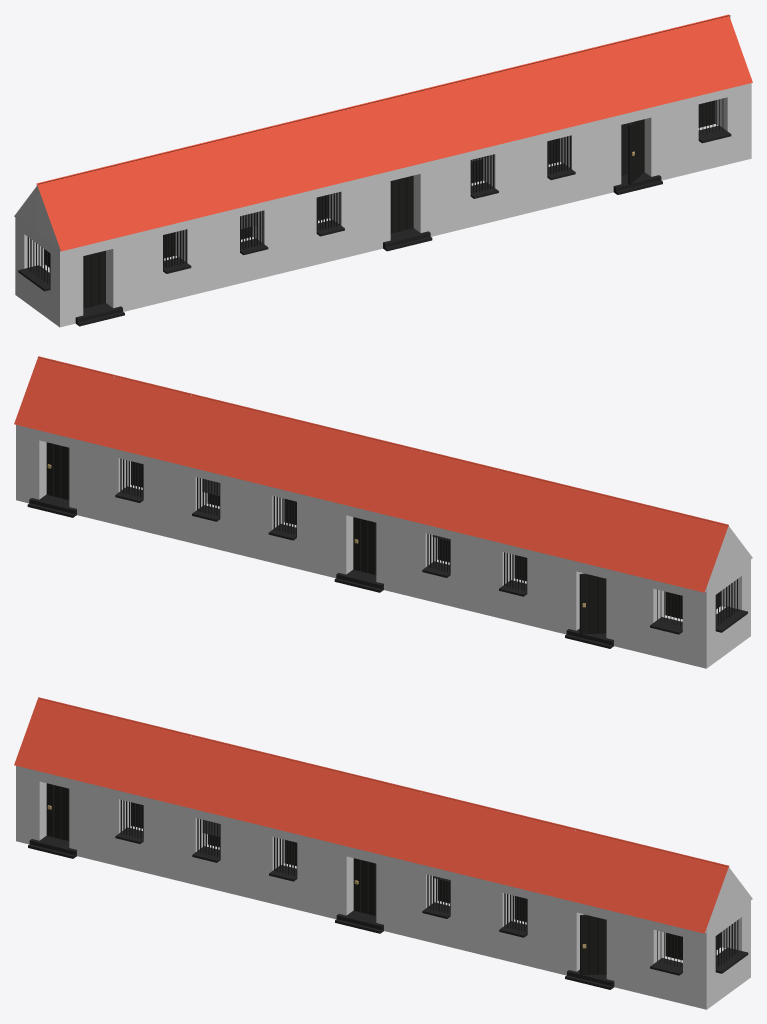
Rendered from Casa_Procedural_19.fbx.
3 views of the same model, one above another, from view 1: azimuth 30°, elevation 25°; view 2: azimuth 150°, elevation 25°; view 3: azimuth 330°, elevation 25° (orthographic).
Parts seen in each view (by area): view 1: 19; view 2: 19; view 3: 19.
Boxes of the visible parts, x1,y1,x2,y2 form: 19: [14, 14, 752, 327]; 19: [14, 356, 752, 668]; 19: [14, 697, 752, 1009].
Bounding box in the file's own units: 916 × 159 × 118.
